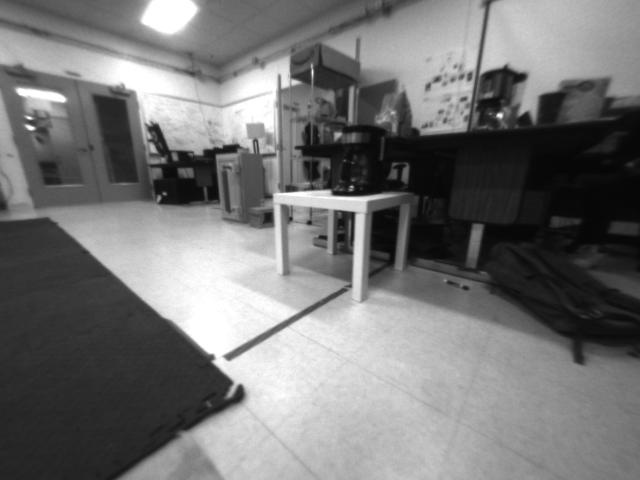coffee_pot: (333, 125, 387, 197)
